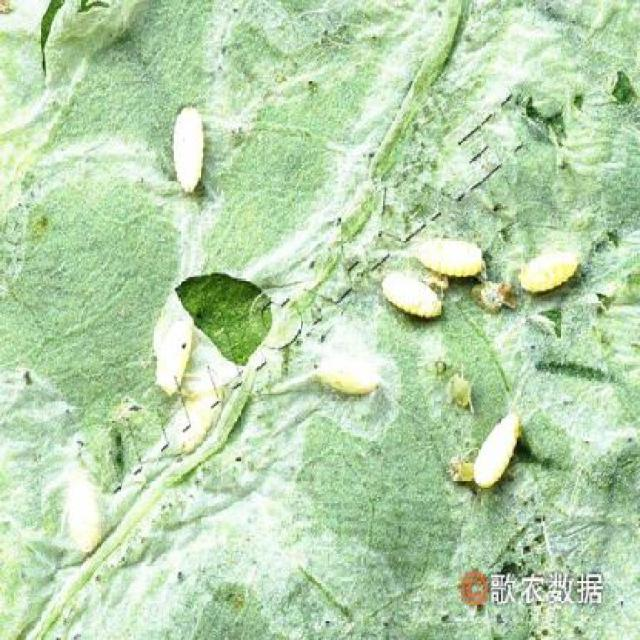whorl-maggot: (471, 395, 523, 500), (168, 97, 215, 201), (318, 334, 384, 408), (518, 235, 592, 300), (382, 262, 448, 331), (60, 468, 106, 557), (412, 226, 486, 279), (154, 308, 192, 389)
